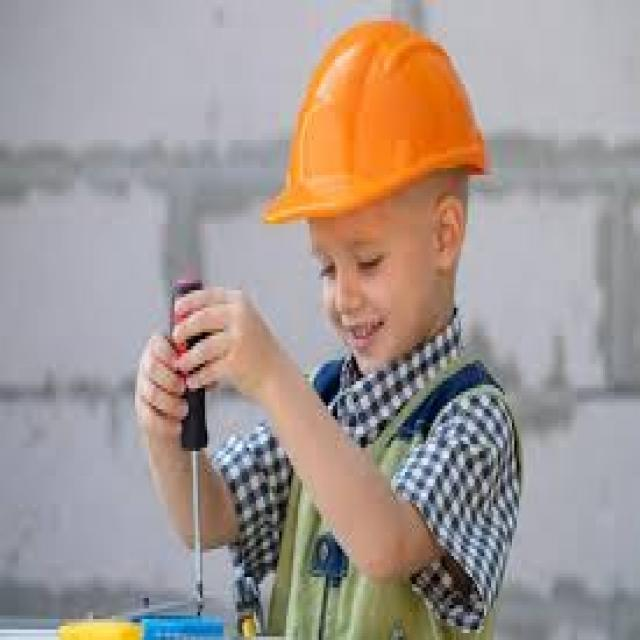screwdriver: (170, 274, 214, 600)
